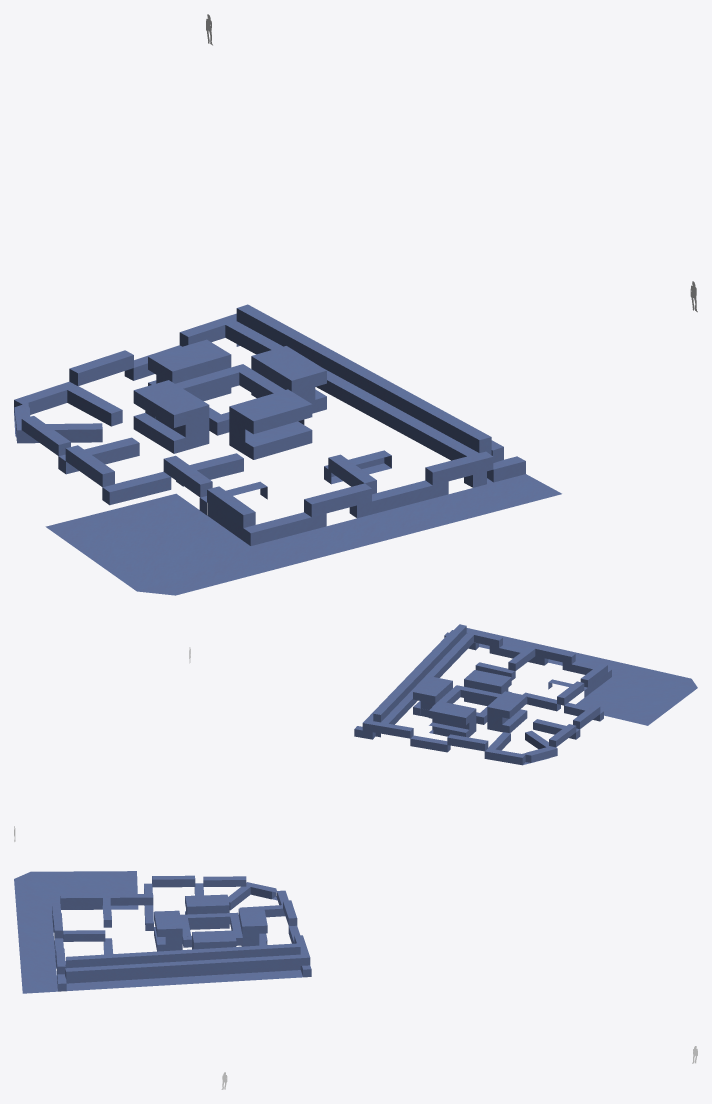
Rendered from Container.gltf.
3 views of the same model, one above another, from view 1: azimuth 30°, elevation 25°; view 2: azimuth 150°, elevation 25°; view 3: azimuth 270°, elevation 25° (orthographic). The views are drawn at different scales.
Visible parts, largest first — view 1: Re_Model.011, Re_Mesh01.005; view 2: Re_Model.011, Re_Mesh01.005; view 3: Re_Model.011, Re_Mesh01.005.
Part boxes in pixels (box(x1,y1,x2,y2)): Re_Model.011: box(14, 304, 561, 595); Re_Mesh01.005: box(133, 339, 326, 459); Re_Model.011: box(354, 624, 697, 765); Re_Mesh01.005: box(413, 670, 527, 737); Re_Model.011: box(14, 871, 311, 993); Re_Mesh01.005: box(154, 894, 267, 951).
Size of the model in its own units: 88.05 by 6.37 by 121.
Materials: 8 (1 with a texture image).
